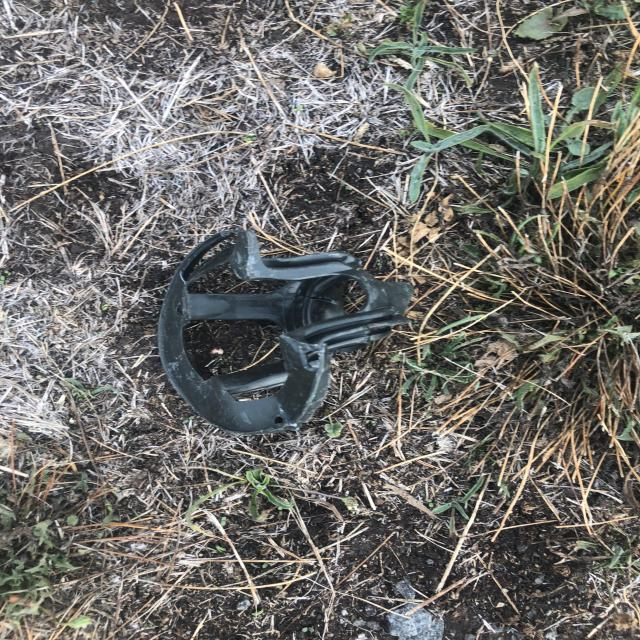litter: (158, 226, 414, 436)
